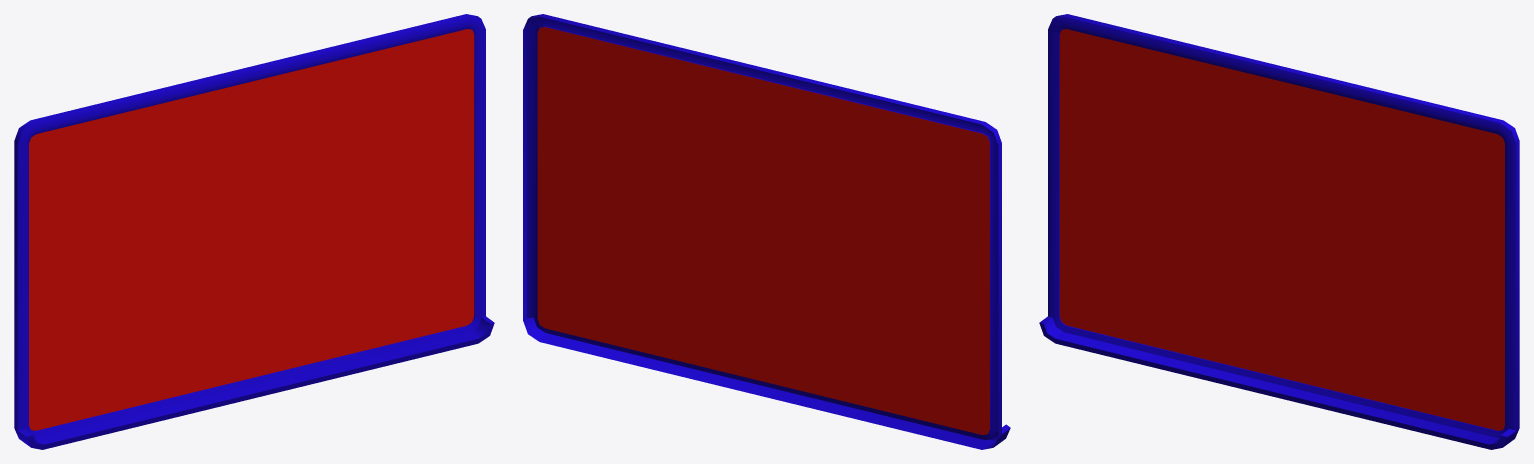
File: whiteboard.fbx
The picture shows the model from 3 angles, left to right: view 1: azimuth 30°, elevation 25°; view 2: azimuth 150°, elevation 25°; view 3: azimuth 330°, elevation 25°; orthographic projection.
Visible parts, largest first — view 1: Cube; view 2: Cube; view 3: Cube.
Part boxes in pixels (x1,y1,x2,y2): Cube: [14, 14, 494, 449]; Cube: [523, 14, 1010, 449]; Cube: [1039, 14, 1519, 449].
Size of the model in its own units: 1063 by 696 by 52.25.
